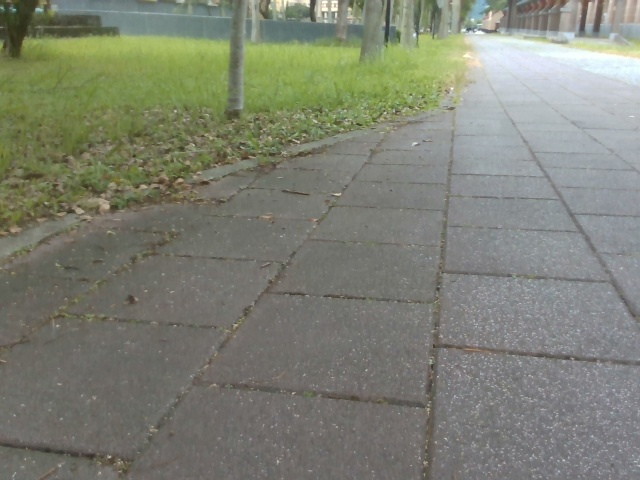grass: (0, 27, 473, 258), (220, 0, 317, 116), (335, 0, 506, 54), (0, 0, 77, 58)
road: (0, 33, 639, 479)
